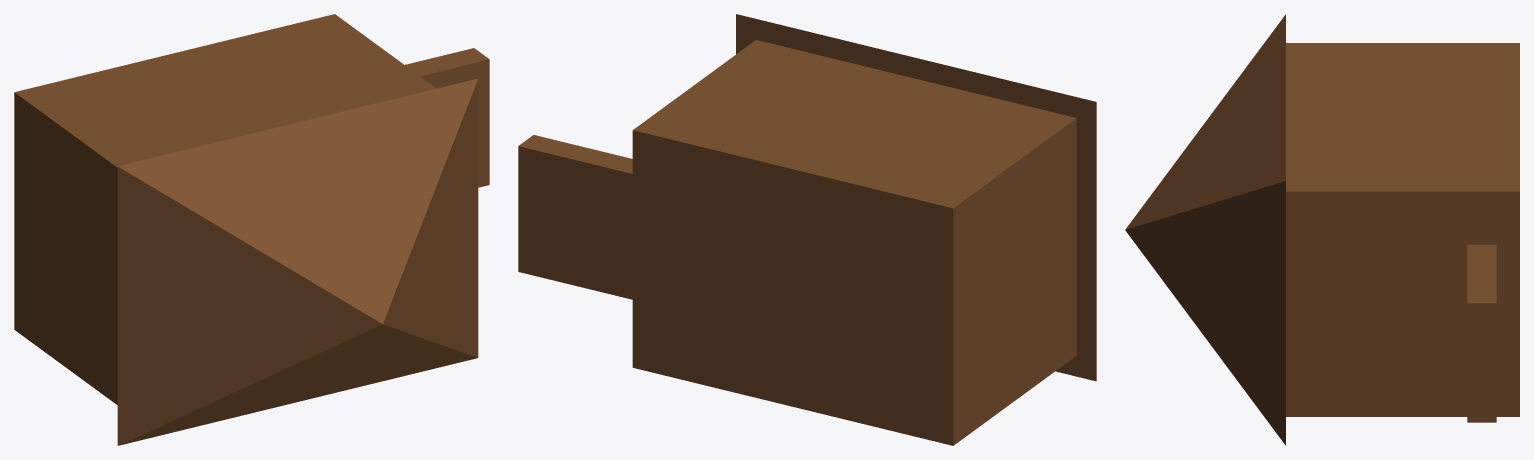
The model's file is SM_CommonChickenCoop.obj.
The picture shows the model from 3 angles, left to right: view 1: azimuth 30°, elevation 25°; view 2: azimuth 150°, elevation 25°; view 3: azimuth 270°, elevation 25°; orthographic projection. The views are drawn at different scales.
Visible parts, largest first — view 1: SM_CommonChickenCoop; view 2: SM_CommonChickenCoop; view 3: SM_CommonChickenCoop.
Boxes of the visible parts, <box> form: SM_CommonChickenCoop: <box>14,14,489,445</box>; SM_CommonChickenCoop: <box>518,14,1096,445</box>; SM_CommonChickenCoop: <box>1125,14,1519,445</box>.
Size of the model in its own units: 175 by 100 by 135.
